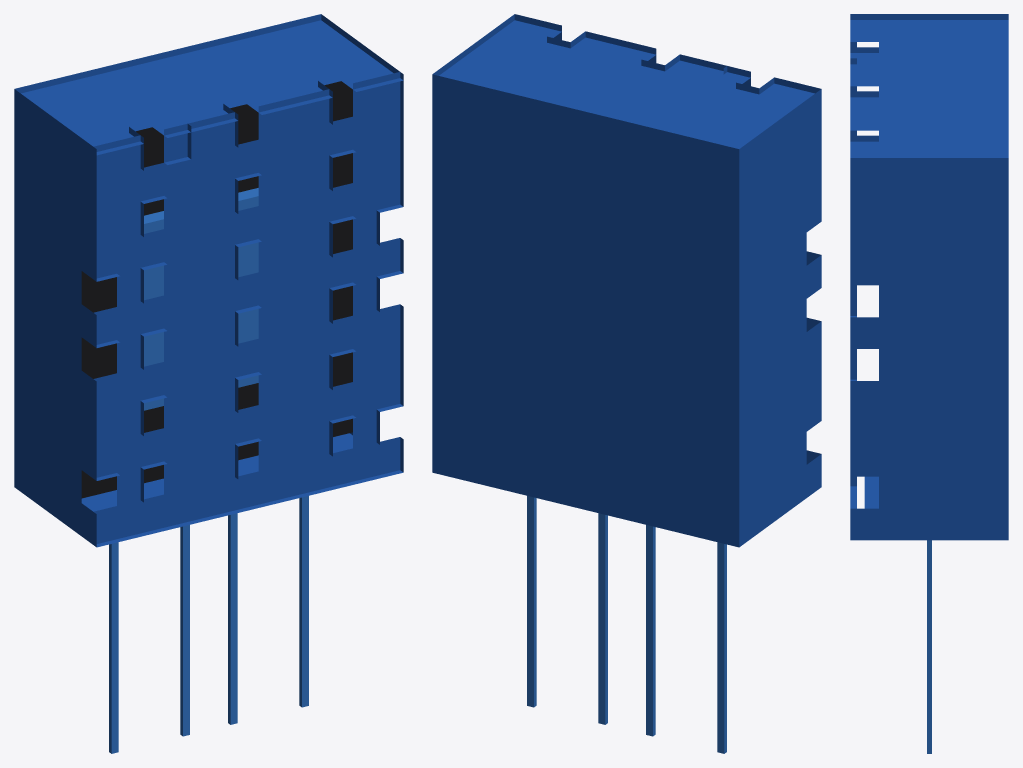
File: dht11-temperature-humidity.glb
3 views of the same model, side by side, from view 1: azimuth 30°, elevation 25°; view 2: azimuth 150°, elevation 25°; view 3: azimuth 270°, elevation 25° (orthographic). The views are drawn at different scales.
Parts seen in each view (by area): view 1: part_2, part_0, part_1; view 2: part_2, part_0; view 3: part_2, part_0.
Boxes of the visible parts, x1,y1,x2,y2 form: part_2: [14, 14, 403, 547]; part_0: [109, 188, 308, 753]; part_1: [81, 81, 352, 498]; part_2: [432, 14, 821, 547]; part_0: [527, 496, 726, 753]; part_2: [850, 14, 1008, 540]; part_0: [927, 540, 931, 753].
Bounding box in the file's own units: 1.29 × 2.6 × 0.6001.
